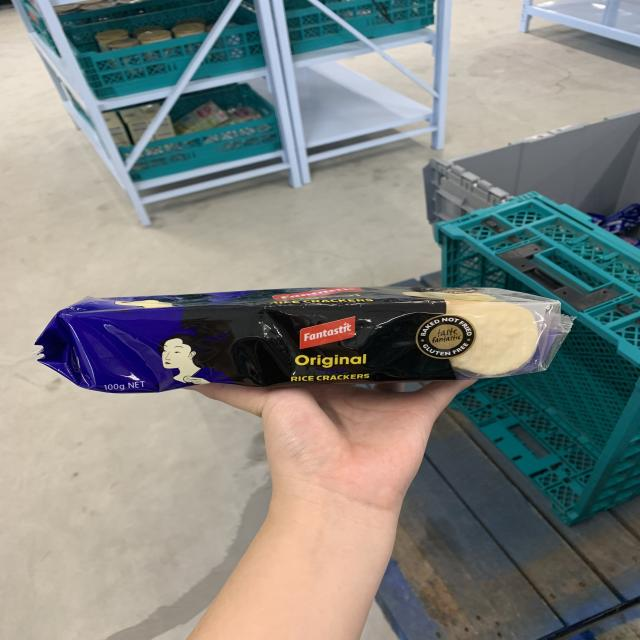object_name: (62, 301, 549, 377)
